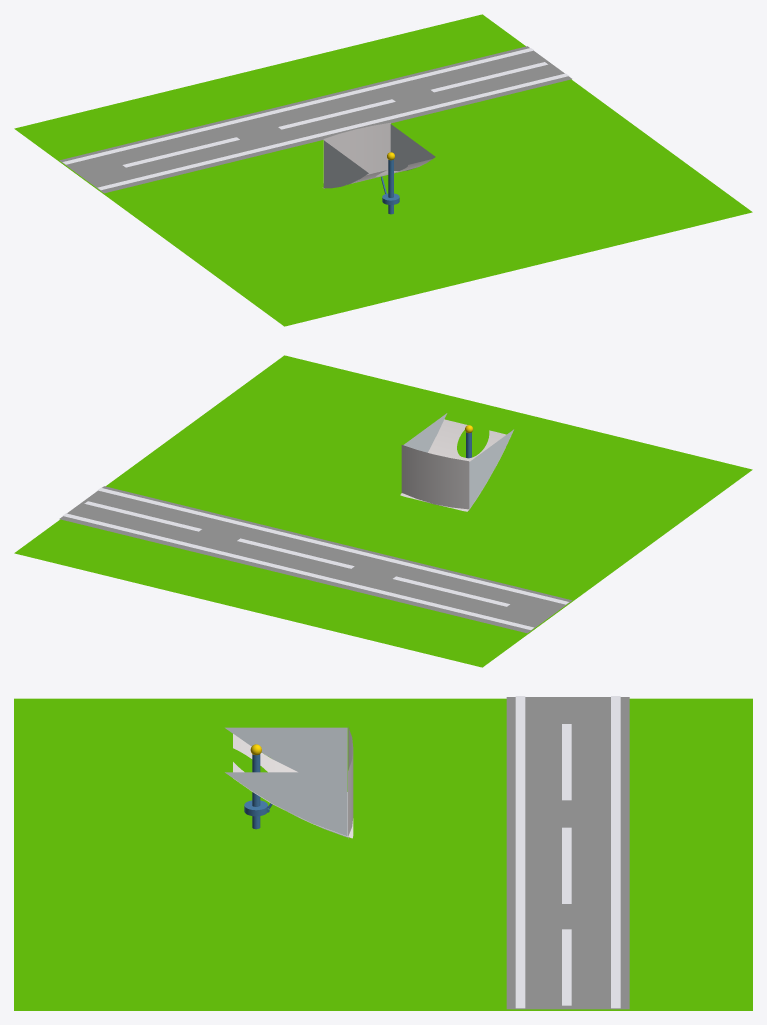
Rendered from Sbox.gltf.
The picture shows the model from 3 angles, top to bottom: view 1: azimuth 30°, elevation 25°; view 2: azimuth 150°, elevation 25°; view 3: azimuth 270°, elevation 25°; orthographic projection. The views are drawn at different scales.
Visible parts, largest first — view 1: Object97, Object96, Object27, Object92, Object93, Object30, Object48; view 2: Object97, Object96, Object27, Object92, Object93, Object28, Object30, Object48; view 3: Object97, Object96, Object48, Object30, Object92, Object93, Object28, Object90, Object94, Object95, Object27.
Part boxes in pixels (<box>): Object97: <box>14,14,752,326</box>; Object96: <box>59,46,571,193</box>; Object27: <box>323,122,390,188</box>; Object92: <box>97,73,568,190</box>; Object93: <box>62,48,533,164</box>; Object30: <box>323,140,368,188</box>; Object48: <box>390,124,435,171</box>; Object97: <box>14,355,752,667</box>; Object96: <box>59,486,572,633</box>; Object27: <box>401,445,469,510</box>; Object92: <box>97,488,568,604</box>; Object93: <box>63,513,533,629</box>; Object28: <box>400,419,507,511</box>; Object30: <box>469,429,513,509</box>; Object48: <box>403,413,447,452</box>; Object97: <box>14,698,752,1010</box>; Object96: <box>506,697,629,1009</box>; Object48: <box>225,772,347,837</box>; Object30: <box>225,727,347,772</box>; Object92: <box>515,696,525,1008</box>; Object93: <box>611,696,620,1008</box>; Object28: <box>233,734,353,838</box>; Object90: <box>562,724,571,800</box>; Object94: <box>562,929,571,1005</box>; Object95: <box>562,827,571,903</box>; Object27: <box>348,727,353,838</box>.
Bounding box in the file's own units: 2.4 × 0.3007 × 2.4.
